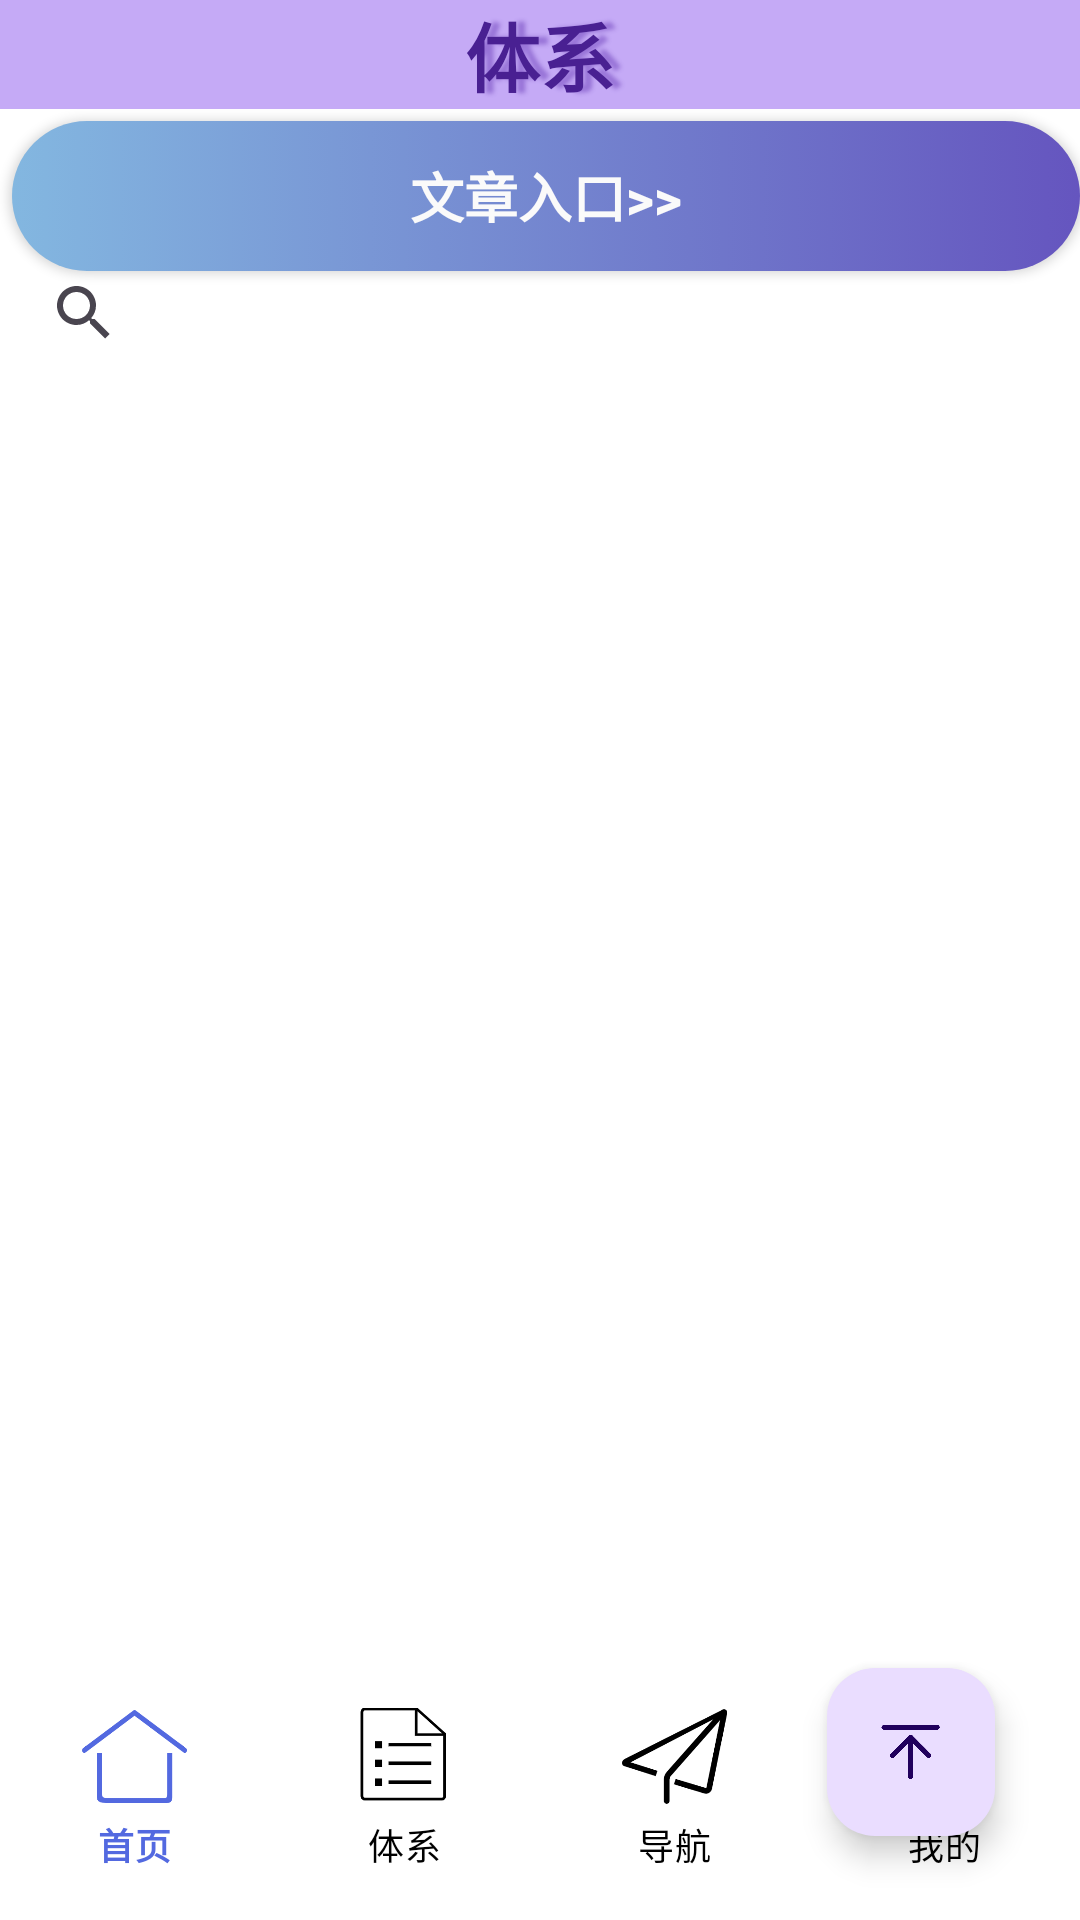

Icons on this 1080px x 1920px Android screen, each with the point to tap as [x,y]:
返回顶部: [911,1752]
